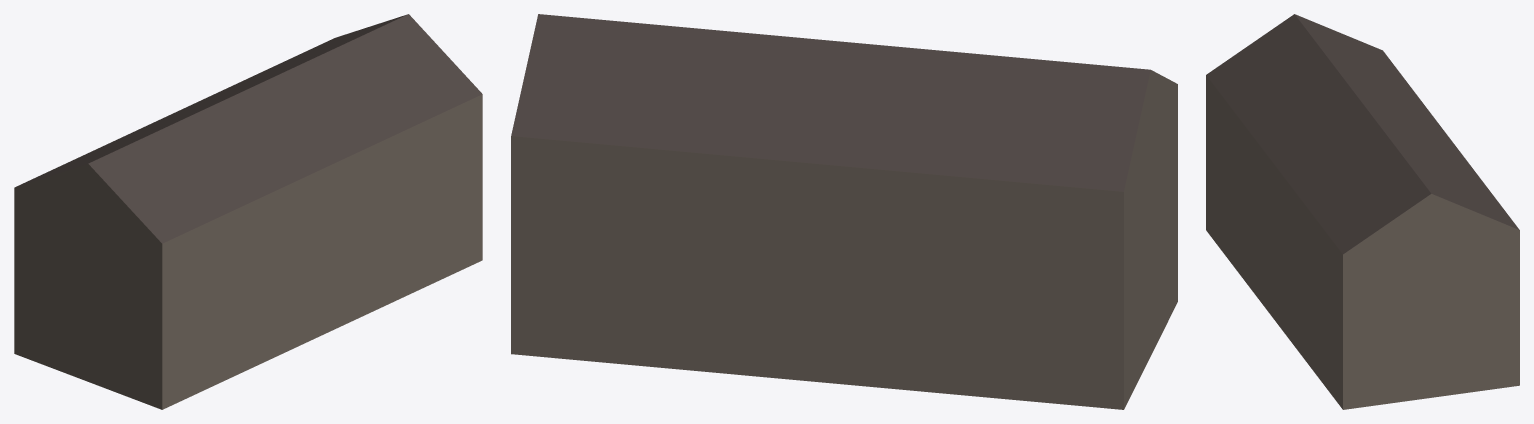
3 views of the same model, side by side, from view 1: azimuth 30°, elevation 25°; view 2: azimuth 150°, elevation 25°; view 3: azimuth 270°, elevation 25° (orthographic). The views are drawn at different scales.
Visible parts, largest first — view 1: HP-w1198840864; view 2: HP-w1198840864; view 3: HP-w1198840864.
Boxes of the visible parts, x1,y1,x2,y2 form: HP-w1198840864: (14, 14, 482, 409); HP-w1198840864: (511, 14, 1177, 409); HP-w1198840864: (1206, 14, 1519, 409).
Bounding box in the file's own units: 16.89 × 7.88 × 10.98.
